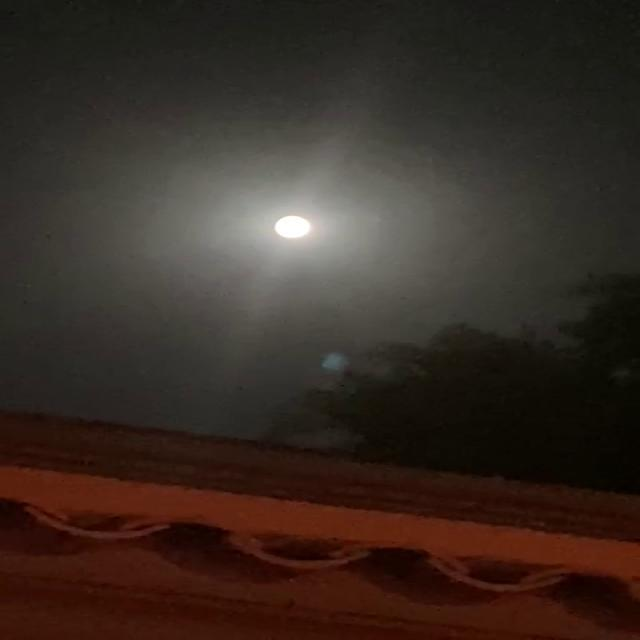moon: (276, 212, 335, 251)
